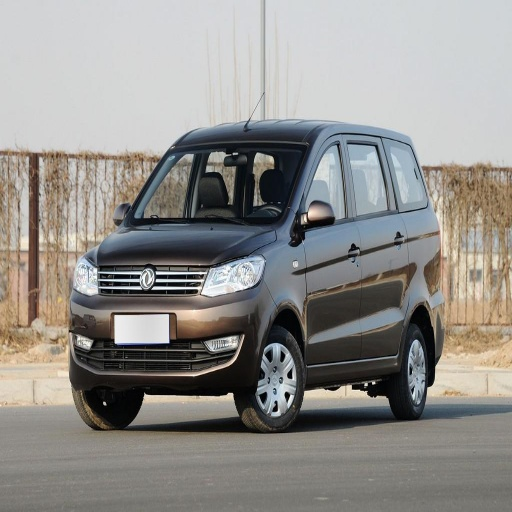front_bumper: (70, 258, 272, 389)
front_glass: (125, 144, 308, 225)
front_left_door: (299, 134, 363, 364)
